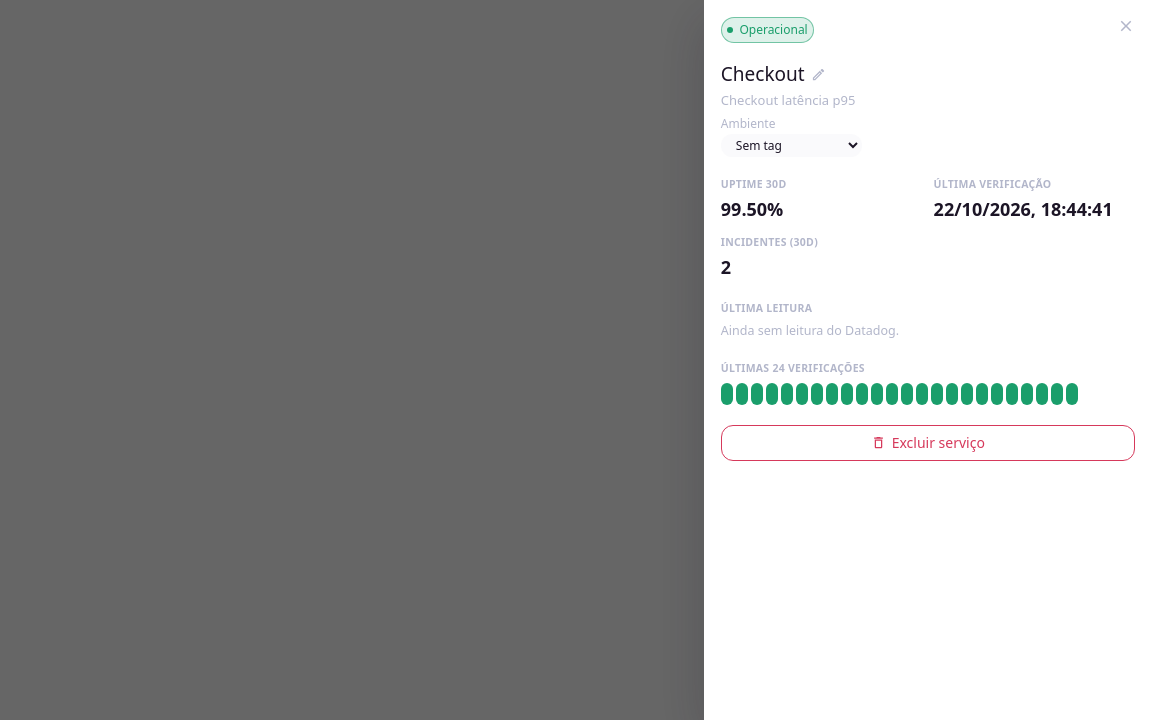
Scenario: ServiceDetailDrawer › canceling the edit discards the draft and keeps the original name
Expected: the heading "Checkout" is shown, [721,60,805,88]
Step 1. Click the button named "Renomear serviço" → (818, 74), box [811,67,826,82]
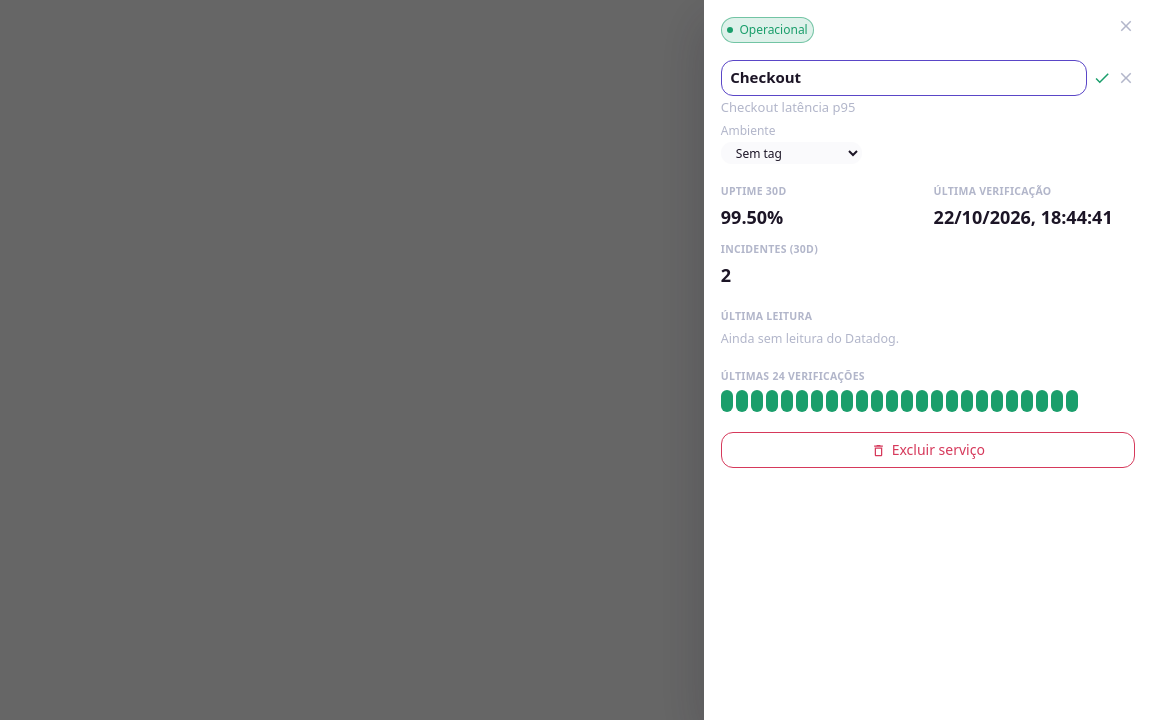
Step 2. Type " draft" into the field with placeholder "Nome do serviço" → (904, 78), box [721,60,1087,96]
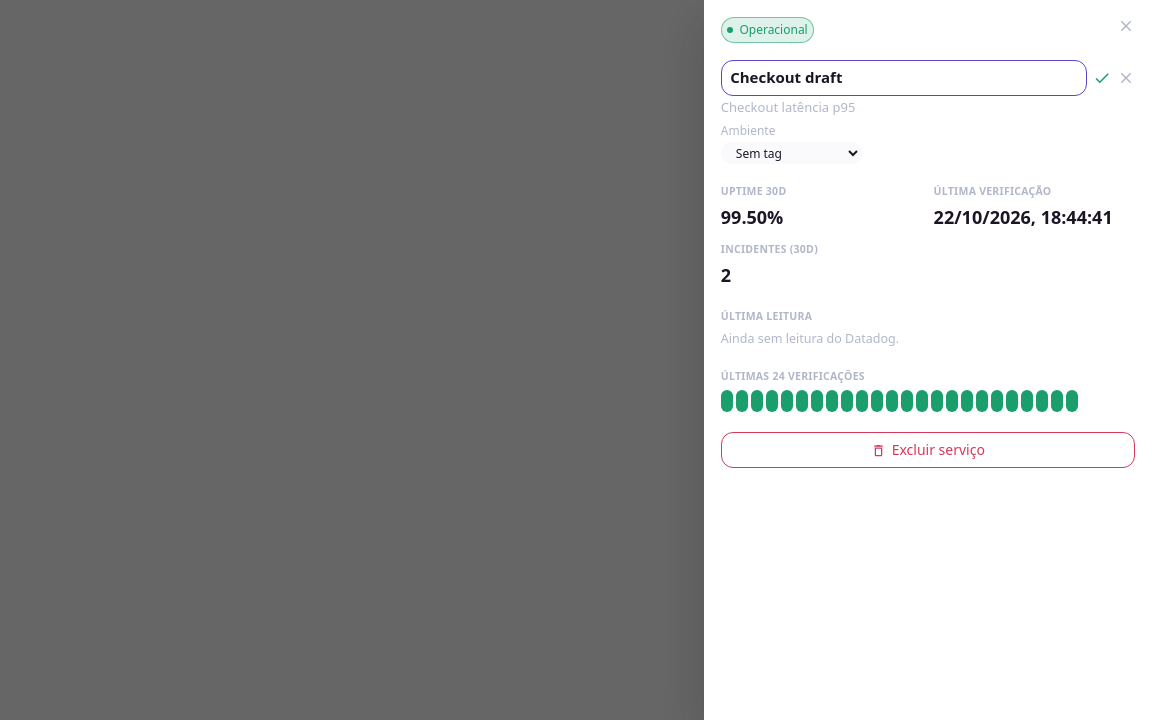
Step 3. Click the button named "Cancelar" → (1126, 78), box [1117,69,1135,87]
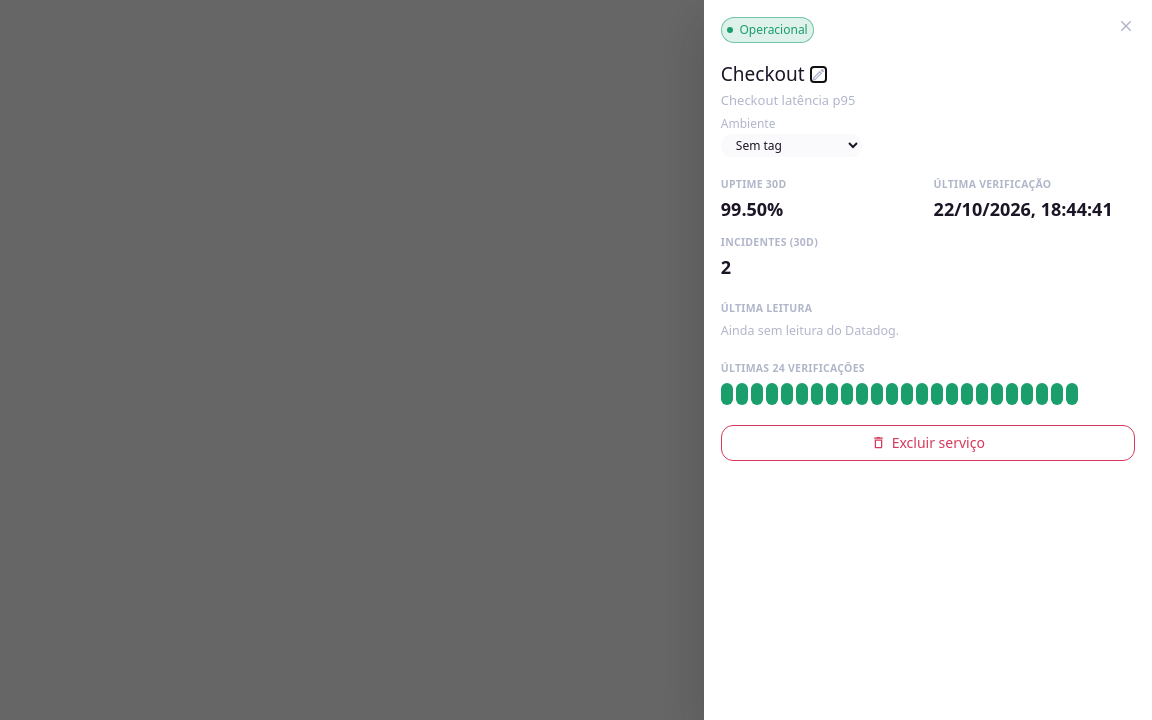
Expected: the heading "Checkout" is shown, [721,60,805,88]
